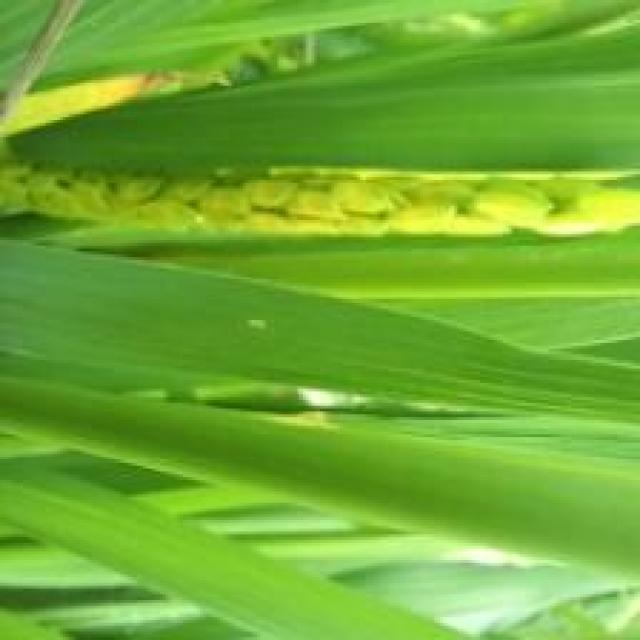HealthyLeaf: (3, 387, 632, 569), (5, 249, 531, 406), (78, 36, 630, 168), (24, 481, 420, 638)
